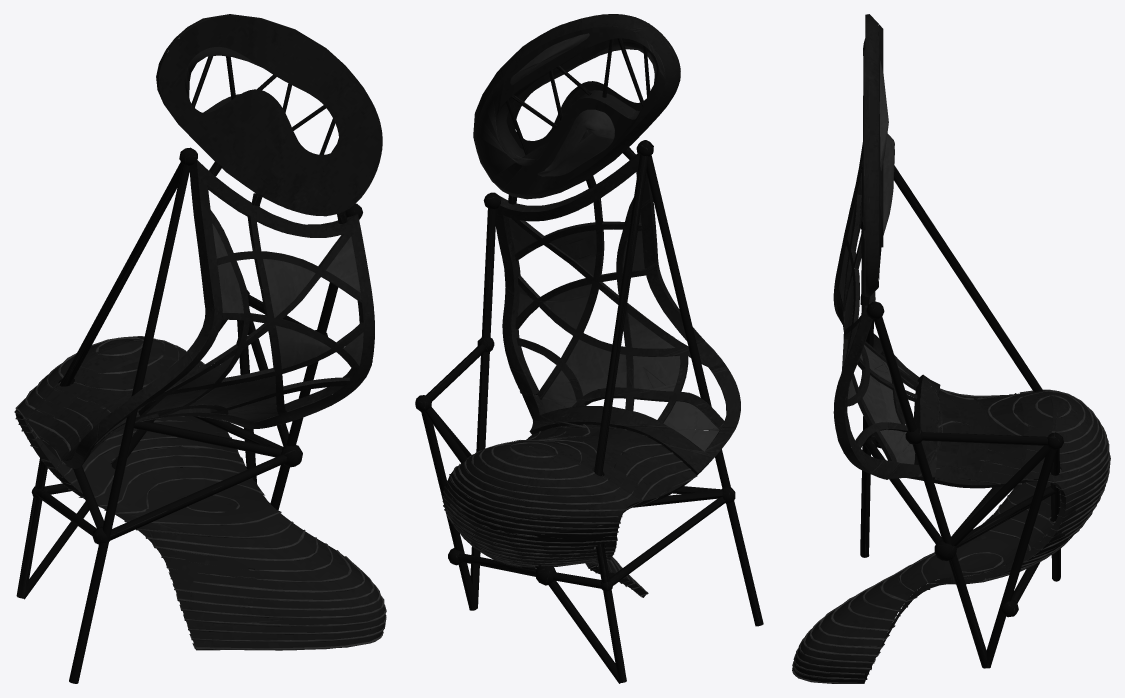
The model's file is mermaid-chair-black-v4.glb.
3 views of the same model, side by side, from view 1: azimuth 30°, elevation 25°; view 2: azimuth 150°, elevation 25°; view 3: azimuth 270°, elevation 25° (orthographic). The views are drawn at different scales.
Parts seen in each view (by area): view 1: mermaid-chair-black; view 2: mermaid-chair-black; view 3: mermaid-chair-black.
Boxes of the visible parts, x1,y1,x2,y2 form: mermaid-chair-black: (14,14,386,683); mermaid-chair-black: (415,14,763,683); mermaid-chair-black: (792,14,1110,683).
Size of the model in its own units: 0.6194 by 1.19 by 0.5734.
Materials: 1 (1 with a texture image).
